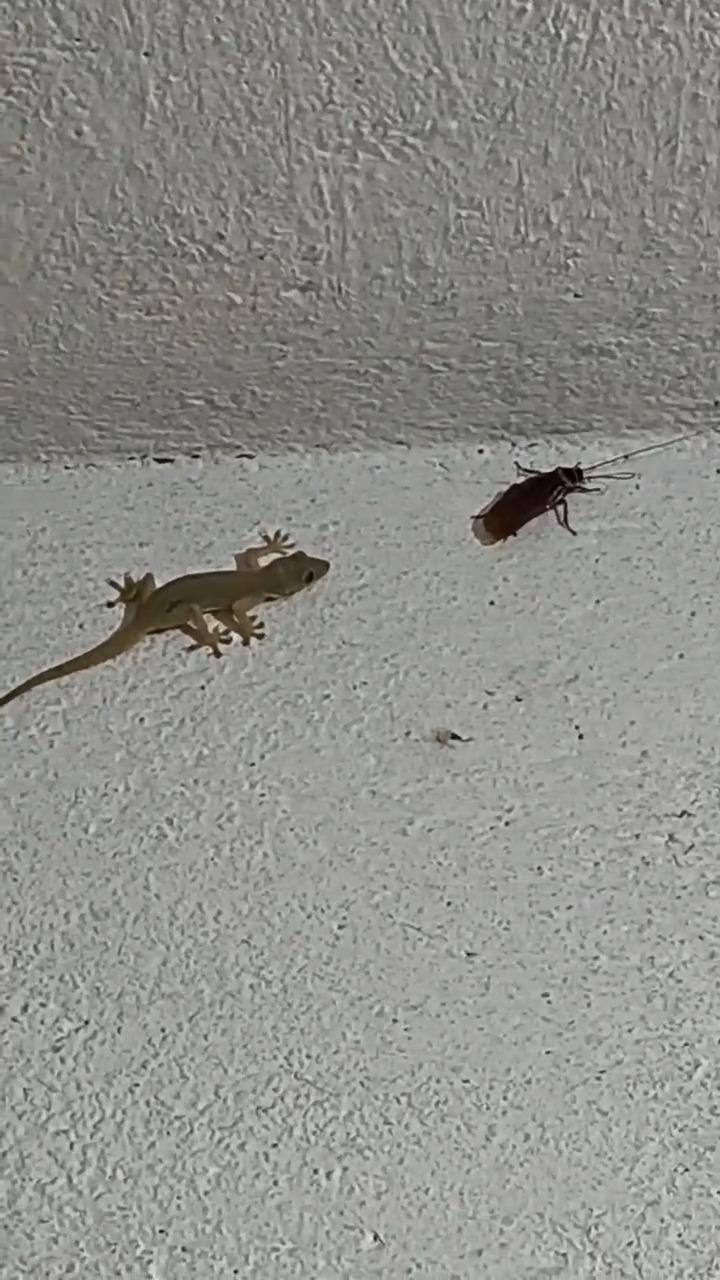cockroach: (446, 446, 655, 554)
lizard: (0, 518, 339, 710)
